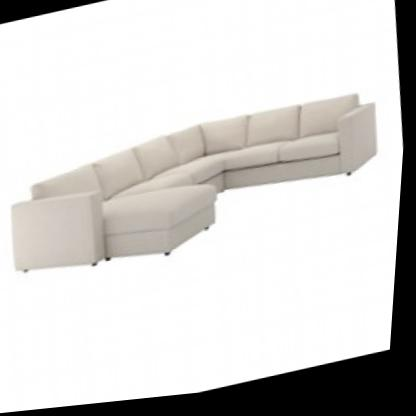Sofa: (0, 52, 398, 310)
